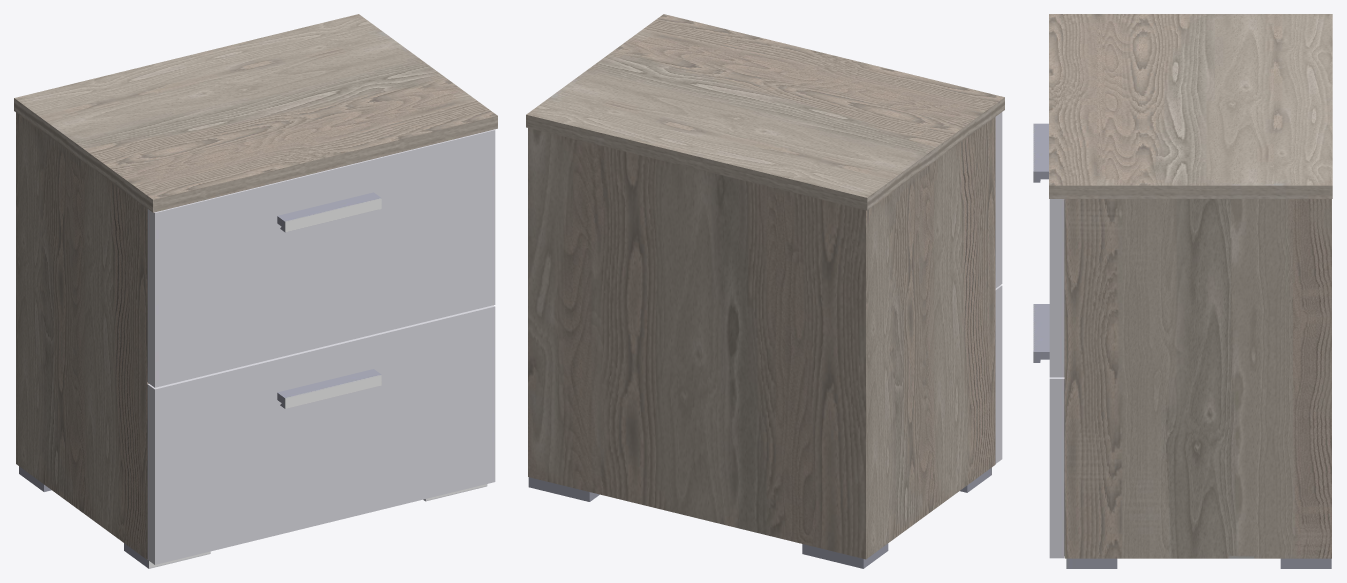
File: table_B07GG34GWD.glb
3 renders of one model, left to right at view 1: azimuth 30°, elevation 25°; view 2: azimuth 150°, elevation 25°; view 3: azimuth 270°, elevation 25°, orthographic. The views are drawn at different scales.
Parts seen in each view (by area): view 1: RootNode; view 2: RootNode; view 3: RootNode.
Boxes of the visible parts, <box> form: RootNode: <box>14,14,497,568</box>; RootNode: <box>526,14,1004,568</box>; RootNode: <box>1033,14,1332,568</box>.
Size of the model in its own units: 0.4416 by 0.4608 by 0.3254.
1 material, 1 textured.
